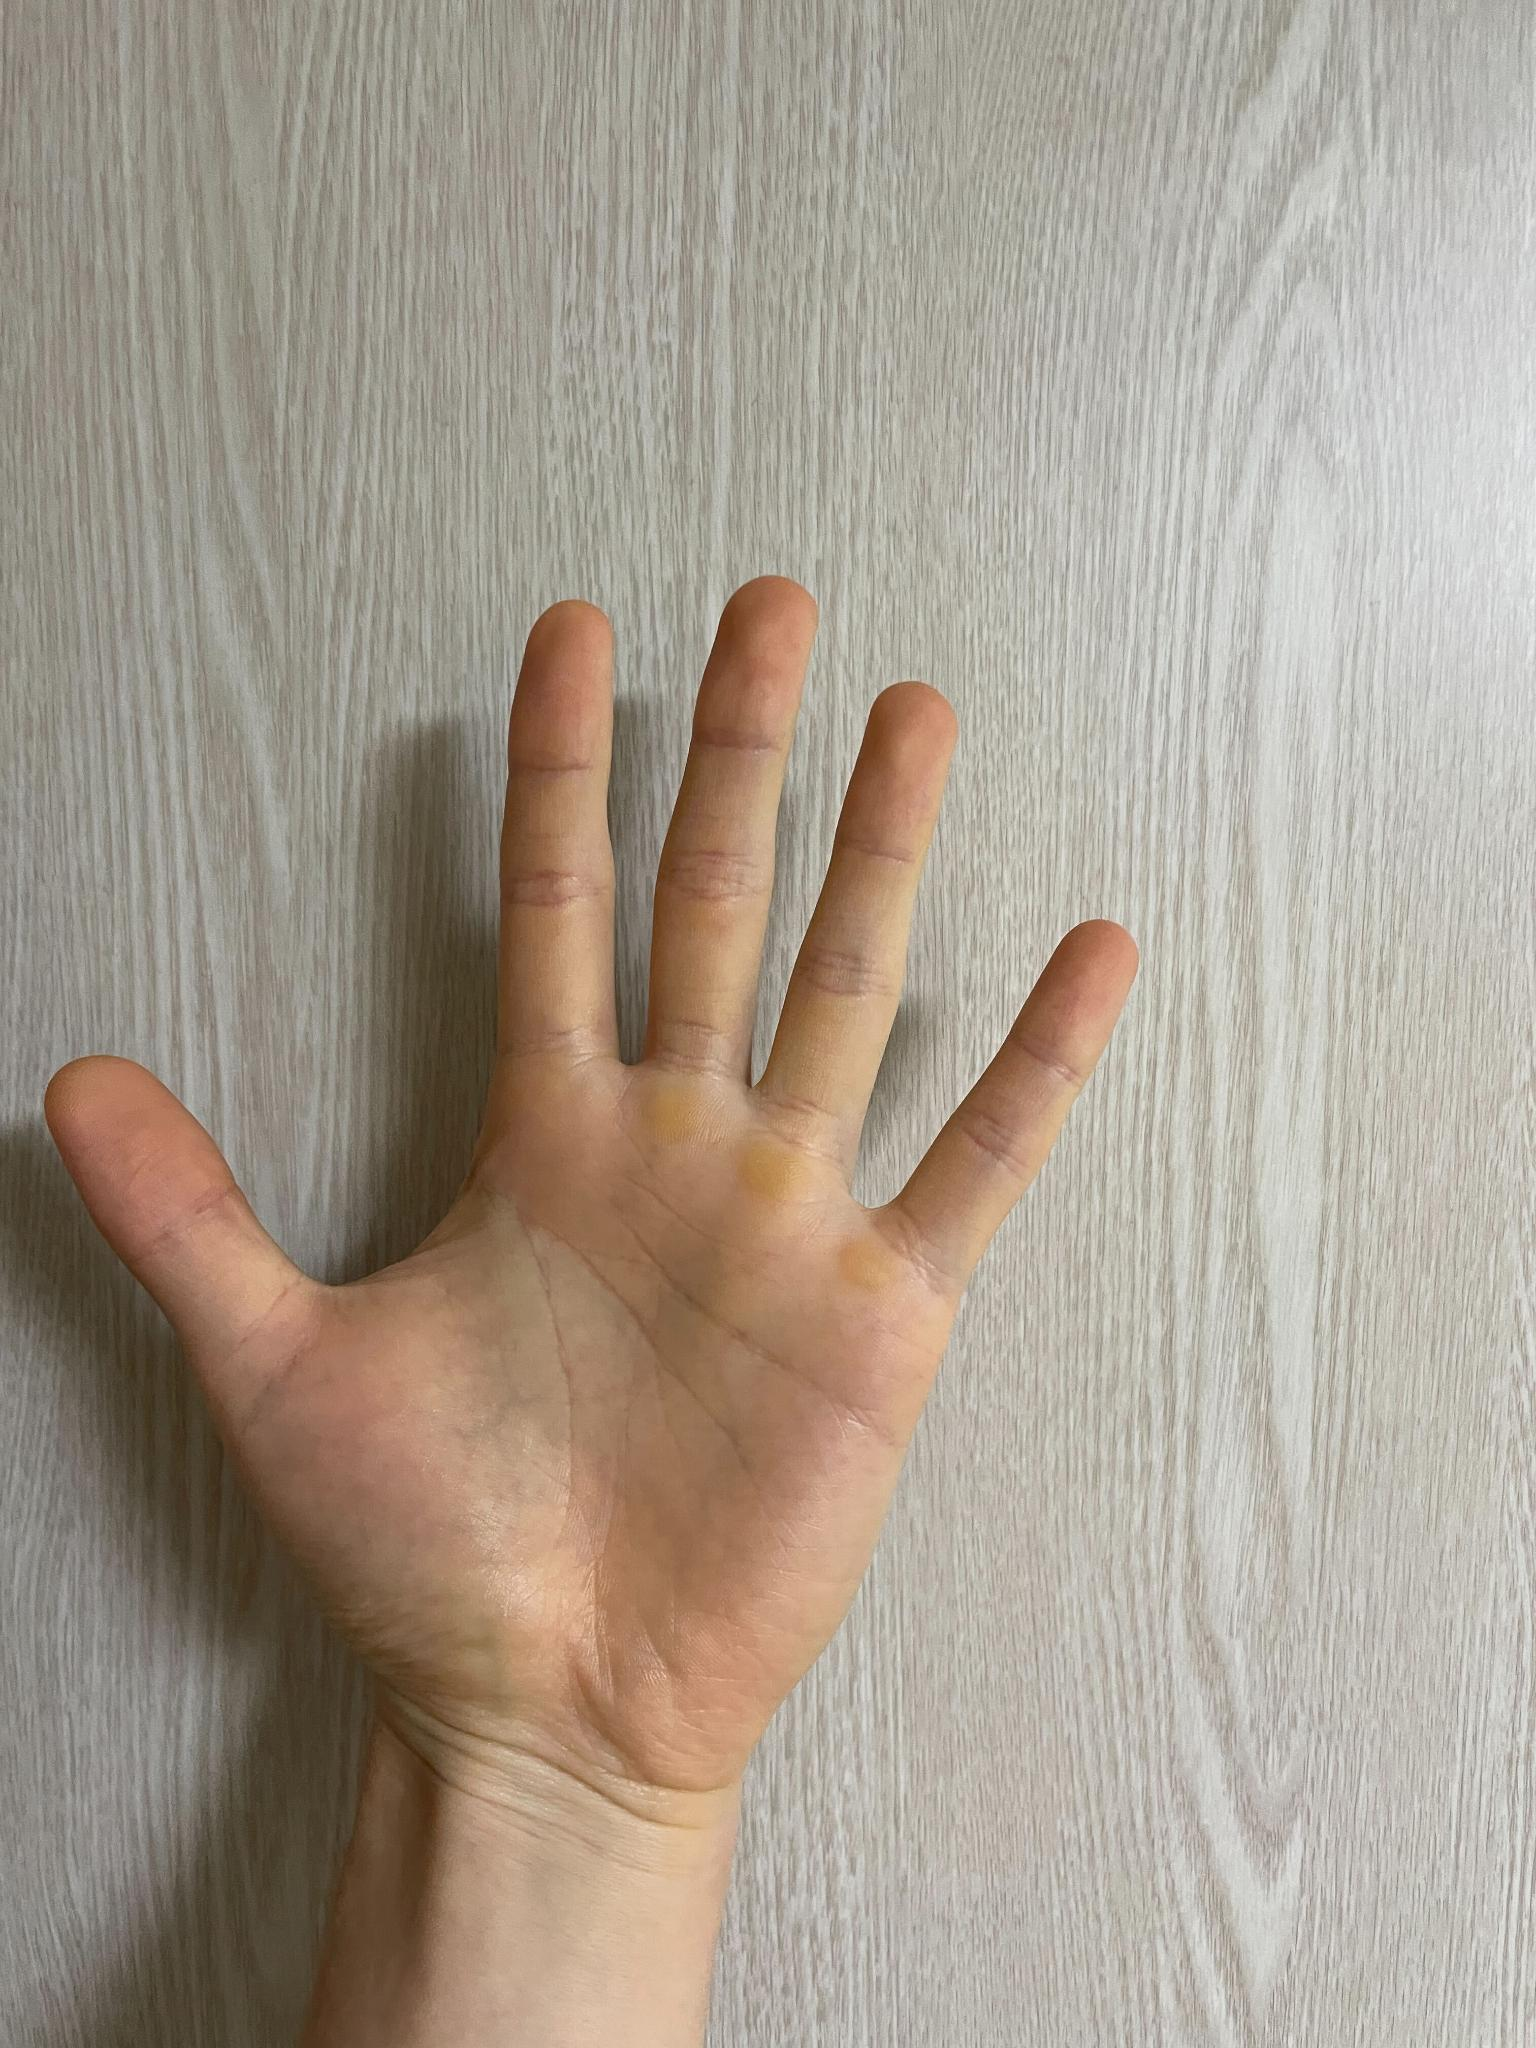open: (45, 566, 1154, 1846)
